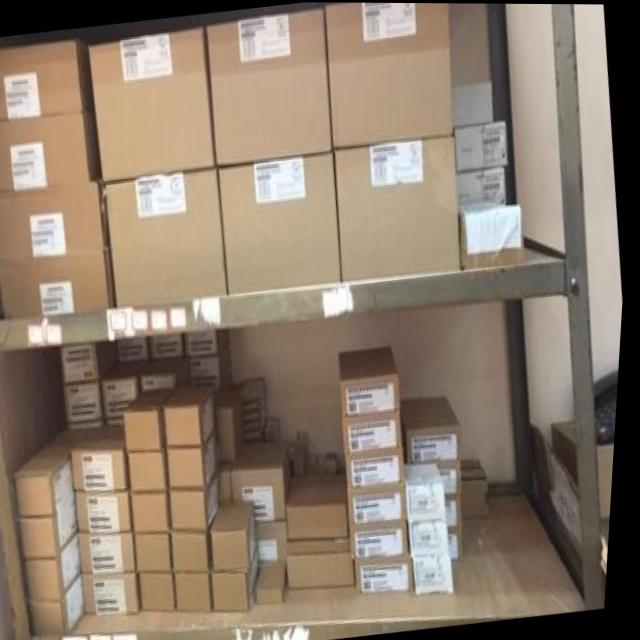box: (87, 25, 221, 185), (206, 2, 336, 165), (335, 133, 464, 281), (324, 2, 455, 145), (220, 149, 346, 294), (109, 165, 231, 305), (0, 107, 100, 195), (0, 182, 113, 257), (0, 252, 119, 318), (0, 41, 94, 119), (460, 166, 530, 269), (448, 3, 494, 122), (239, 439, 299, 522), (20, 441, 81, 517), (294, 470, 355, 541), (343, 346, 404, 417), (24, 491, 86, 557), (405, 395, 465, 463), (31, 531, 89, 599), (76, 424, 136, 489), (34, 571, 93, 637), (293, 536, 361, 588), (217, 500, 265, 571), (166, 388, 222, 447), (129, 388, 181, 449), (175, 470, 226, 531), (346, 407, 409, 456), (219, 545, 268, 607), (171, 434, 224, 491), (351, 445, 413, 492), (90, 569, 151, 616), (410, 460, 453, 525), (352, 485, 415, 528), (81, 487, 140, 531), (65, 341, 125, 384), (454, 121, 510, 167), (86, 527, 143, 569), (356, 521, 418, 559), (221, 383, 250, 464), (362, 557, 421, 591), (193, 347, 235, 393), (68, 379, 110, 424), (137, 484, 177, 531), (417, 552, 460, 595), (179, 531, 219, 576), (140, 531, 179, 574), (413, 518, 455, 557), (260, 561, 297, 605), (133, 451, 174, 489), (107, 375, 141, 417), (144, 574, 182, 611), (181, 574, 220, 610), (50, 426, 110, 449), (264, 521, 294, 566), (190, 328, 233, 357), (154, 335, 191, 363), (121, 340, 157, 366), (445, 459, 466, 495), (224, 462, 241, 505), (451, 493, 469, 529)
